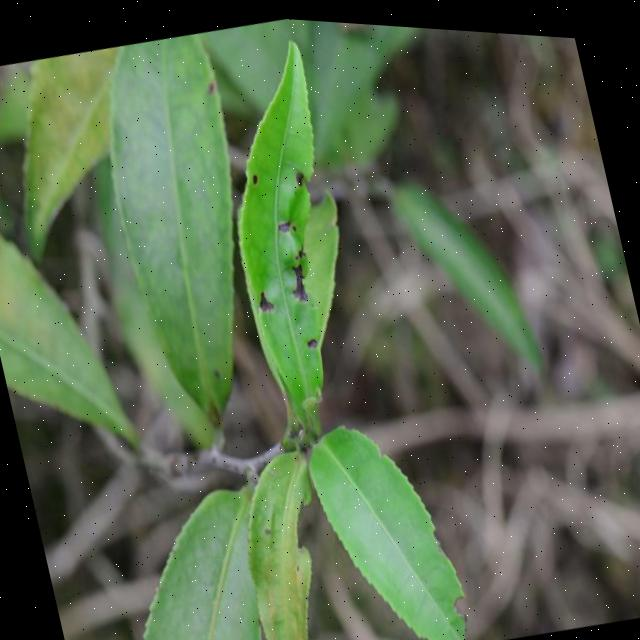Tea red scab: (266, 198, 322, 309), (245, 269, 280, 322), (300, 325, 324, 360), (286, 160, 308, 188), (244, 157, 263, 188)
